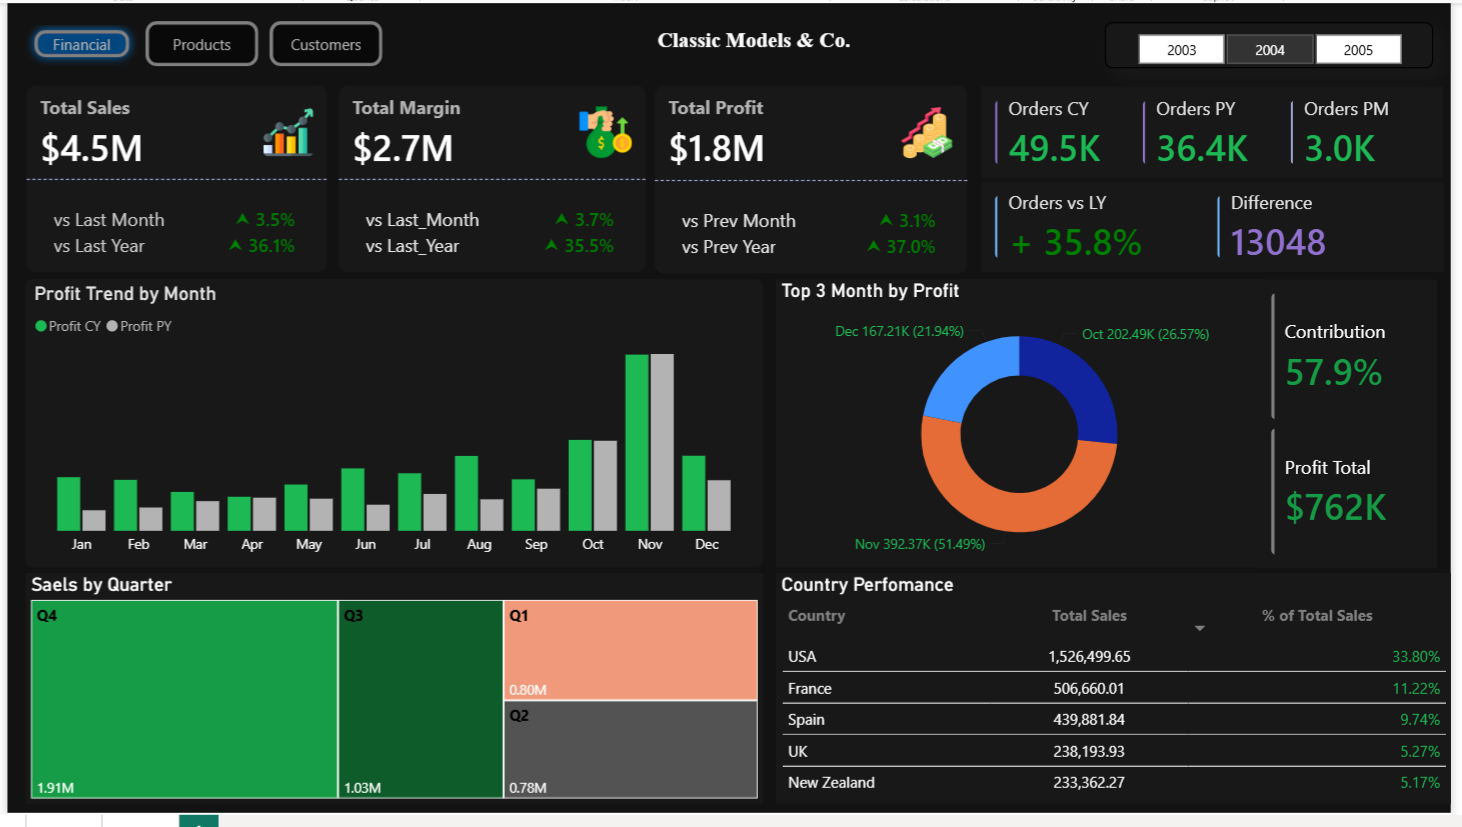

This screenshot's page, from the dashboard's own definition file:
{"tool":"powerbi","page":{"name":"Page 1","canvas":[1280,720],"ordinal":0},"visuals":[{"type":"cardVisual","fields":{"Data":["All Measures.Total Sales Display"]},"box":[0,55.5,300,200.9],"z":0},{"type":"cardVisual","fields":{"Data":["All Measures.Total Margin Display"]},"box":[276.7,55.9,306.8,200.4],"z":2000},{"type":"cardVisual","fields":{"Data":["All Measures.Total profit Display"]},"box":[556.8,55.9,311.2,201.3],"z":3000},{"type":"cardVisual","fields":{"Data":["All Measures.total_quantity","All Measures.Quantity prev year","All Measures.Quantity prev month"]},"box":[858.2,69.1,421.8,91.8],"z":4000},{"type":"cardVisual","fields":{"Data":["All Measures.change","All Measures.difference"]},"box":[858.2,153.6,421.8,90.9],"z":5000},{"type":"clusteredColumnChart","title":" Profit Trend by Month","fields":{"Category":["DateTable.Month_Name"],"Y":["All Measures.Total profit","All Measures.profit py"]},"box":[16.4,244.5,653.6,256.4],"z":6000},{"type":"donutChart","title":"Top 3 Month by Profit","fields":{"Category":["DateTable.Month_Name"],"Y":["All Measures.Total profit"]},"box":[680.9,244.5,431.8,256.4],"z":7000},{"type":"tableEx","title":"Country Perfomance","fields":{"Values":["customers.country","All Measures.total_sell","All Measures.% of Total Sales"]},"box":[680.9,505.5,600,204.5],"z":8000},{"type":"cardVisual","fields":{"Data":["All Measures.percentage","All Measures.Top 3 Months Profit"]},"box":[1102.7,240,169.1,267.3],"z":9000},{"type":"treemap","title":"Saels by Quarter","fields":{"Group":["DateTable.Quarter"],"Values":["All Measures.total_sell"]},"box":[16,505,654,205],"z":11000},{"type":"textbox","box":[571,16.8,197.3,39.1],"z":12000},{"type":"slicer","fields":{"Values":["DateTable.Year"]},"box":[972.7,16.8,290.8,40.8],"z":12001},{"type":"actionButton","box":[16,16,100,40],"z":12002},{"type":"actionButton","box":[122.4,16,100,40],"z":12003},{"type":"actionButton","box":[232.3,16,100,40],"z":12004}]}

Visuals, with their boxes in screenshot pixels (x1, y1, x2, y2), scaled from the page's 1280x720 canvas onto the 1462x827 screenshot:
cardVisual - All Measures.Total Sales Display: l=0, t=64, r=343, b=295
cardVisual - All Measures.Total Margin Display: l=316, t=64, r=666, b=294
cardVisual - All Measures.Total profit Display: l=636, t=64, r=991, b=295
cardVisual - All Measures.total_quantity x All Measures.Quantity prev year: l=980, t=79, r=1461, b=185
cardVisual - All Measures.change x All Measures.difference: l=980, t=176, r=1461, b=281
" Profit Trend by Month" clusteredColumnChart: l=19, t=281, r=765, b=575
"Top 3 Month by Profit" donutChart: l=778, t=281, r=1271, b=575
"Country Perfomance" tableEx: l=778, t=581, r=1461, b=816
cardVisual - All Measures.percentage x All Measures.Top 3 Months Profit: l=1259, t=276, r=1453, b=583
"Saels by Quarter" treemap: l=18, t=580, r=765, b=816
textbox: l=652, t=19, r=878, b=64
slicer - DateTable.Year: l=1111, t=19, r=1443, b=66
actionButton: l=18, t=18, r=132, b=64
actionButton: l=140, t=18, r=254, b=64
actionButton: l=265, t=18, r=380, b=64
